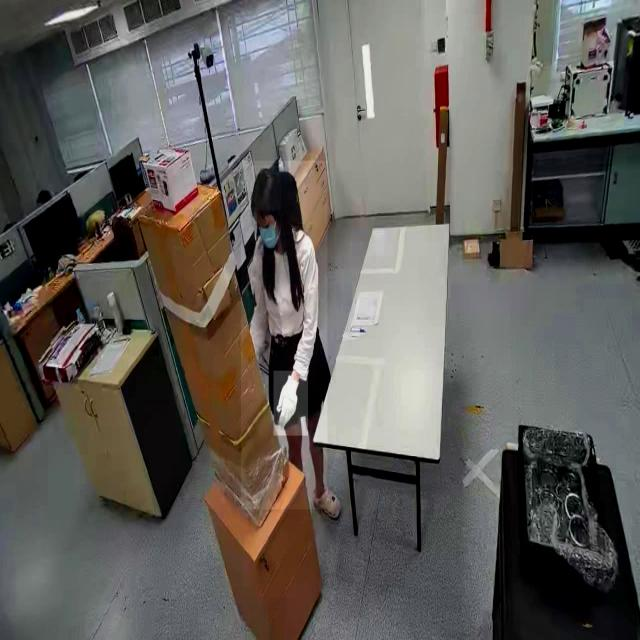face_mask: (257, 212, 277, 255)
hand_glove: (273, 371, 308, 436)
head_nohelmet: (250, 165, 282, 211)
person: (240, 161, 328, 510)
